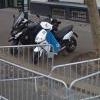Motorcycle: (8, 9, 80, 60)
